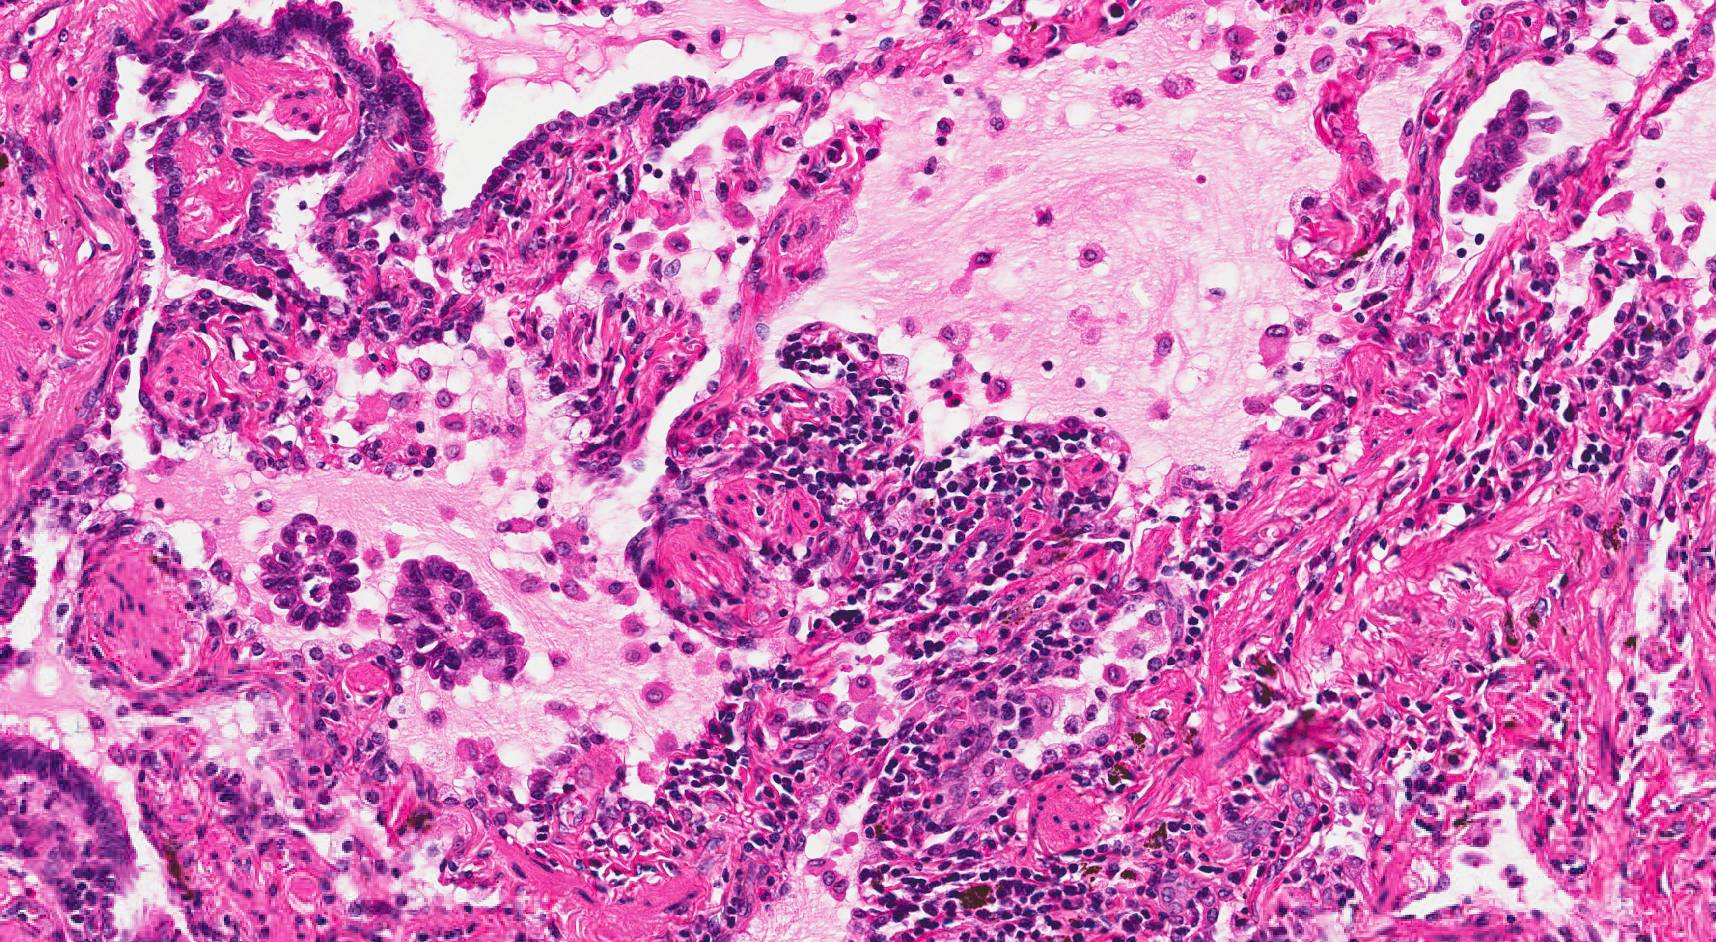stas: (388, 555, 531, 692), (1447, 87, 1567, 220), (257, 515, 368, 631)
